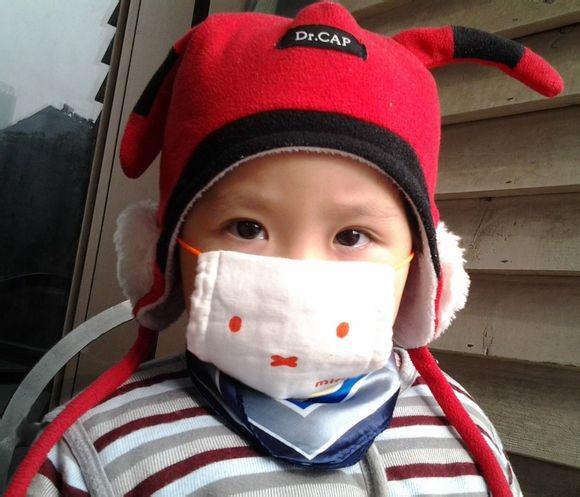OK: (186, 170, 407, 389)
